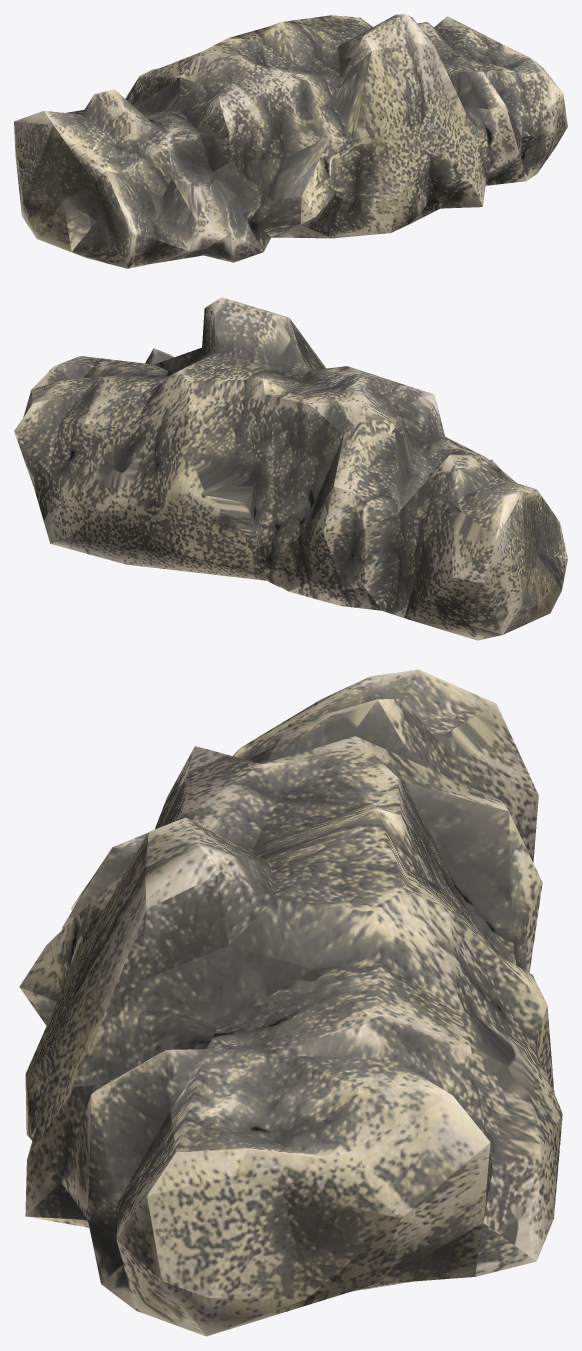
File: rock3_LOD2.fbx
The picture shows the model from 3 angles, top to bottom: view 1: azimuth 30°, elevation 25°; view 2: azimuth 150°, elevation 25°; view 3: azimuth 270°, elevation 25°; orthographic projection. The views are drawn at different scales.
Visible parts, largest first — view 1: rock3; view 2: rock3; view 3: rock3.
Boxes of the visible parts, x1,y1,x2,y2 form: rock3: (14, 14, 567, 268); rock3: (14, 297, 567, 640); rock3: (19, 669, 562, 1336).
Bounding box in the file's own units: 29.8 × 14.35 × 10.79.
